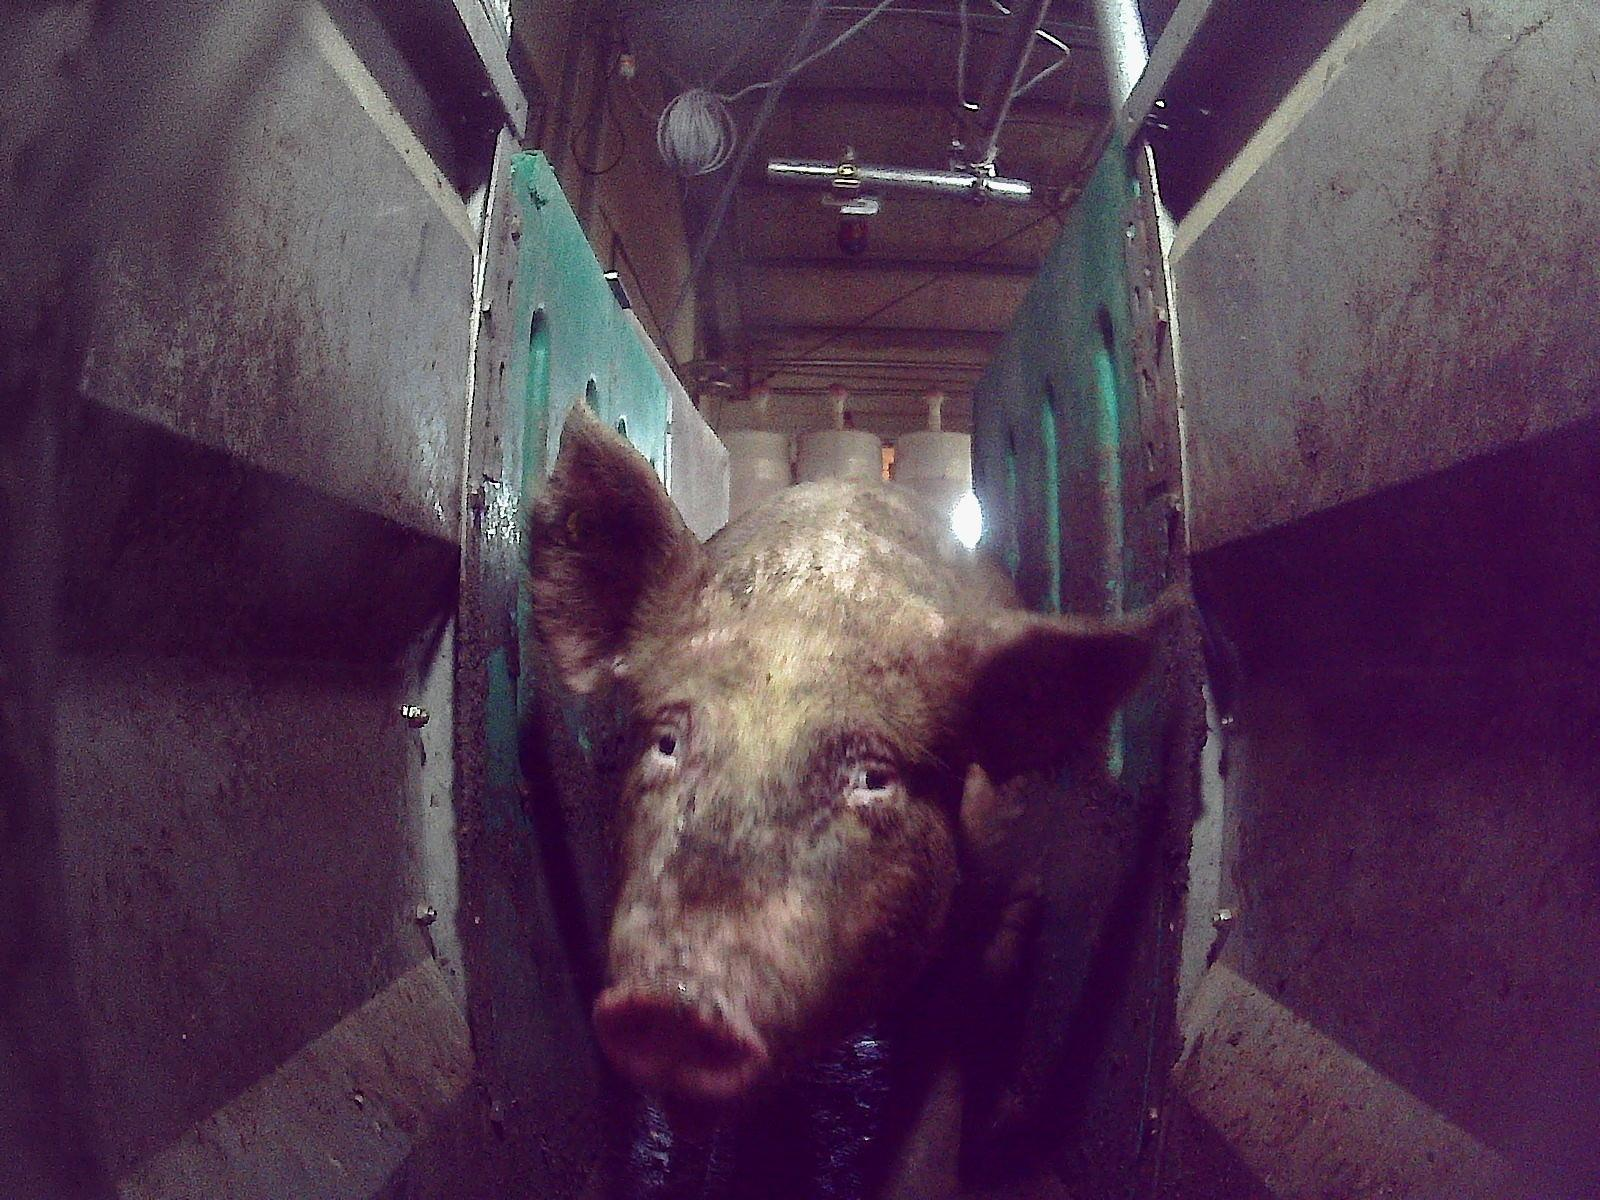Face: (590, 560, 980, 1099)
